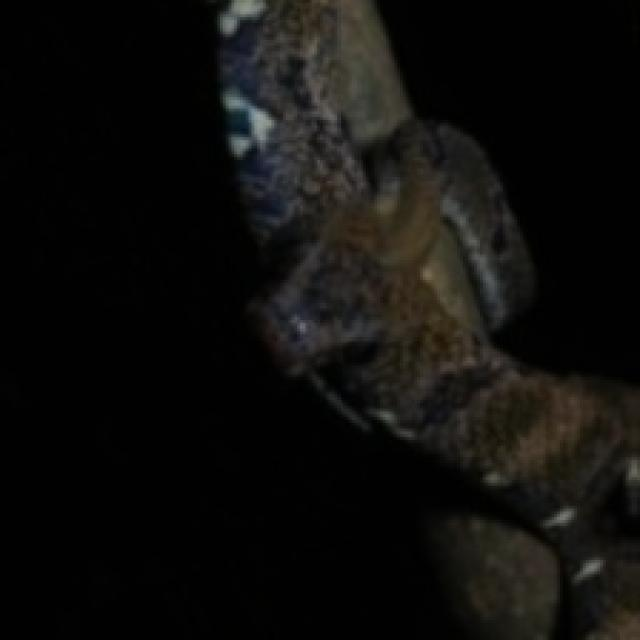dog-toothed cat snake: (220, 0, 637, 637)
